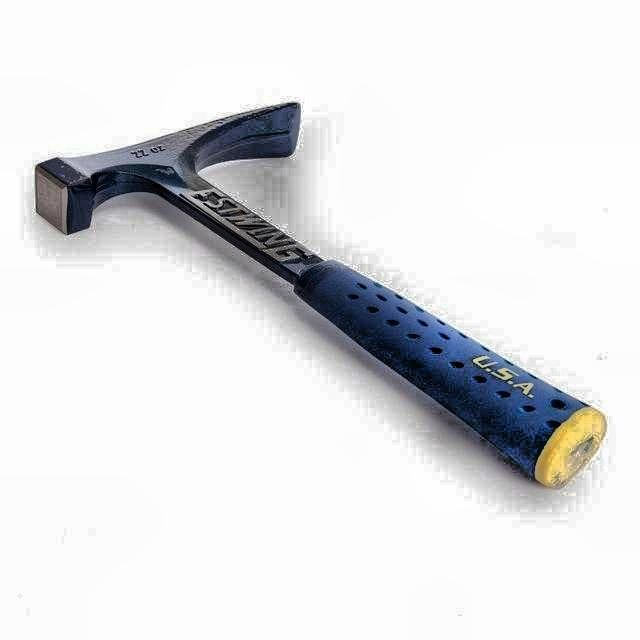hammer: (30, 101, 611, 491)
